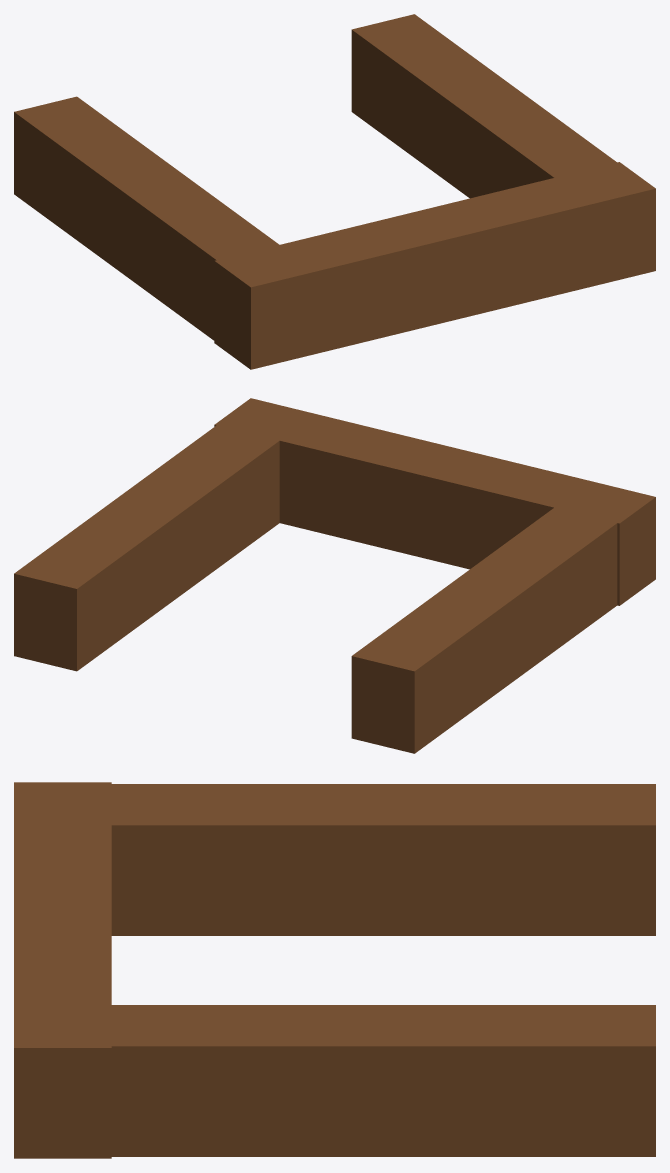
File: SM_ShGardenArch.obj
The picture shows the model from 3 angles, top to bottom: view 1: azimuth 30°, elevation 25°; view 2: azimuth 150°, elevation 25°; view 3: azimuth 270°, elevation 25°; orthographic projection. The views are drawn at different scales.
Parts seen in each view (by area): view 1: SM_ShGardenArch; view 2: SM_ShGardenArch; view 3: SM_ShGardenArch.
Part boxes in pixels (bbox=[...]): SM_ShGardenArch: bbox=[14, 14, 655, 369]; SM_ShGardenArch: bbox=[14, 398, 655, 753]; SM_ShGardenArch: bbox=[14, 782, 655, 1158].
Bounding box in the file's own units: 180 × 35 × 184.
